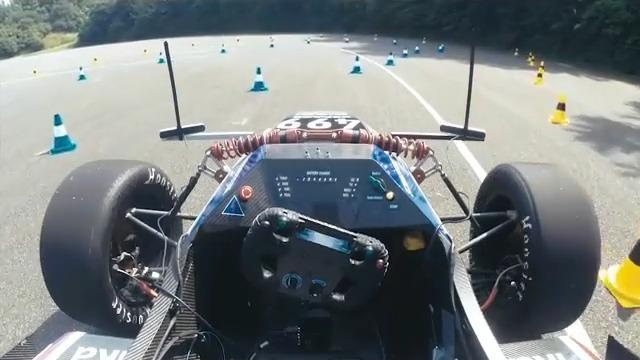blue_cone: (44, 111, 83, 153), (251, 64, 272, 92), (350, 56, 362, 81), (383, 50, 395, 71), (437, 41, 448, 52), (402, 45, 408, 59), (415, 43, 422, 53)
yellow_cone: (611, 223, 640, 311), (548, 95, 571, 128), (528, 65, 547, 83), (525, 50, 547, 64)
